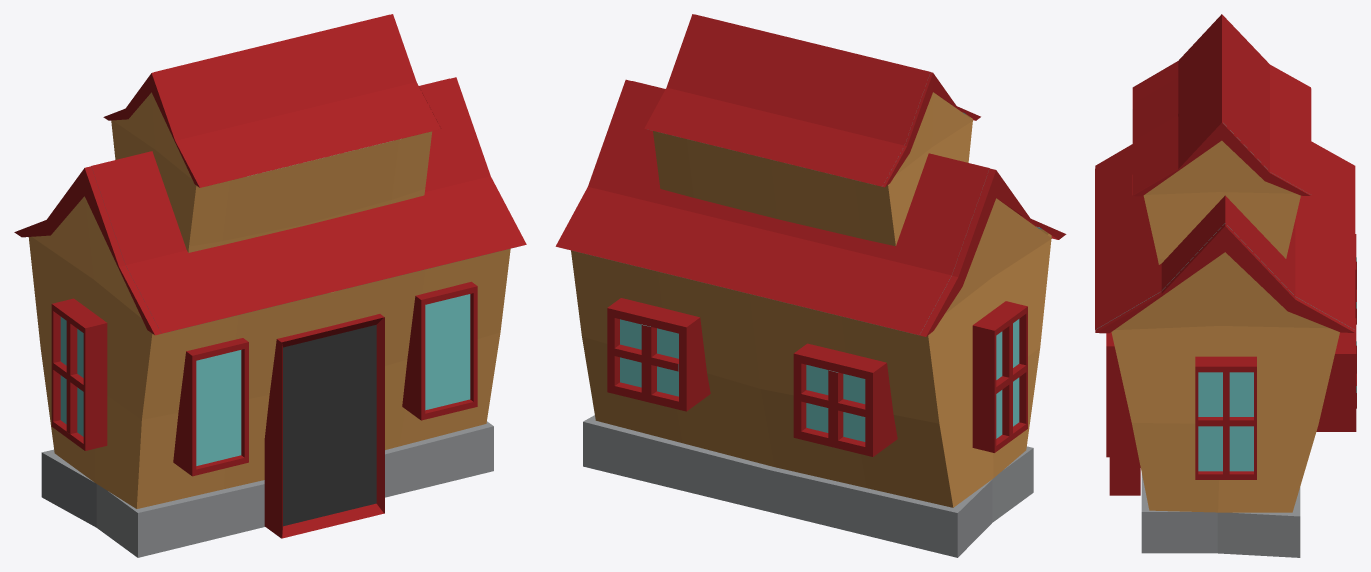
The model's file is LowPolyHouse.fbx.
3 views of the same model, side by side, from view 1: azimuth 30°, elevation 25°; view 2: azimuth 150°, elevation 25°; view 3: azimuth 270°, elevation 25° (orthographic). The views are drawn at different scales.
Visible parts, largest first — view 1: Cube; view 2: Cube; view 3: Cube.
Part boxes in pixels (box(x1,y1,x2,y2)): Cube: box(14, 14, 526, 557); Cube: box(555, 14, 1066, 557); Cube: box(1095, 14, 1356, 557).
Bounding box in the file's own units: 371 × 386 × 226.
